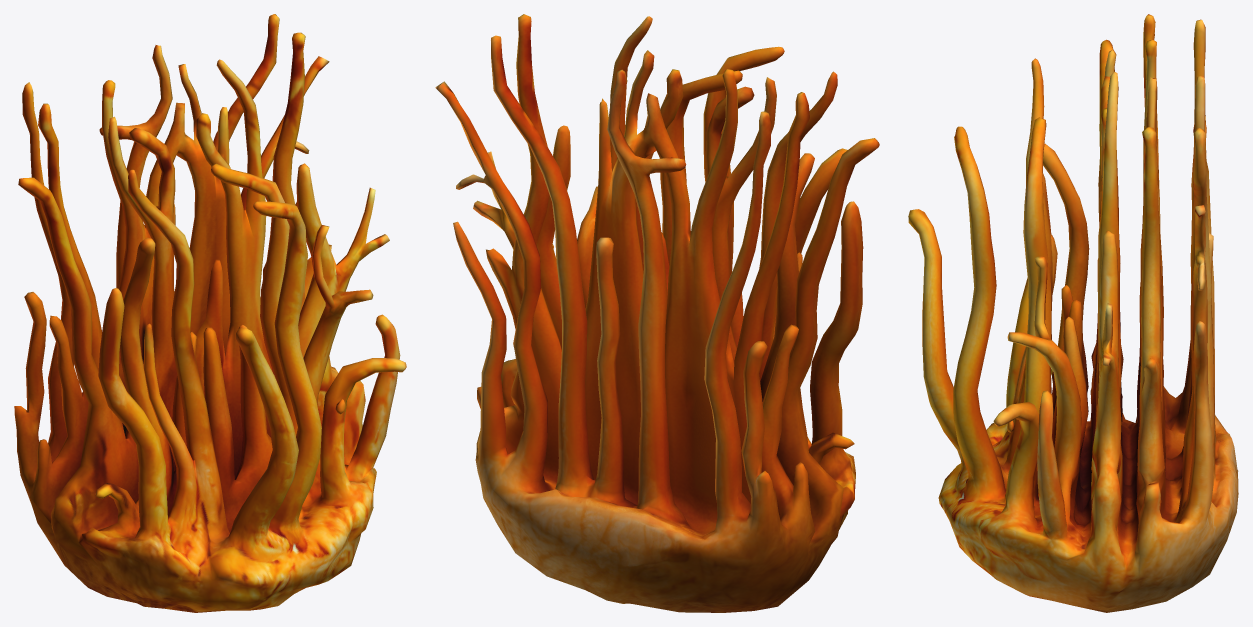
Rendered from cordycep.glb.
3 views of the same model, side by side, from view 1: azimuth 30°, elevation 25°; view 2: azimuth 150°, elevation 25°; view 3: azimuth 270°, elevation 25° (orthographic). The views are drawn at different scales.
Visible parts, largest first — view 1: model; view 2: model; view 3: model.
Boxes of the visible parts, x1,y1,x2,y2 form: model: (14,14,406,612); model: (435,14,879,612); model: (908,14,1238,612).
Bounding box in the file's own units: 1.28 × 1.73 × 1.
1 material, 1 textured.
